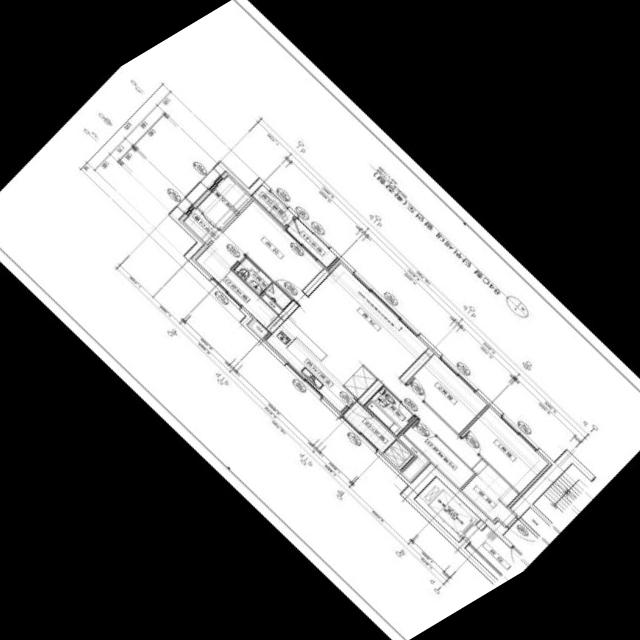background: (0, 0, 640, 640)
space_balconi: (343, 400, 413, 469), (286, 217, 336, 266)
space_bedroom: (222, 200, 323, 299), (460, 406, 547, 492), (405, 353, 486, 433)
space_dressroom: (197, 175, 250, 229), (183, 207, 221, 243)
space_elevator: (414, 476, 480, 541)
space_elevator_hall: (470, 525, 520, 573)
space_front: (462, 458, 518, 525)
space_kitchen: (266, 304, 362, 411)
space_living_room: (300, 262, 481, 468)
space_multipurpose_space: (403, 418, 473, 487)
space_other: (195, 232, 277, 327), (398, 434, 428, 479), (343, 365, 376, 398), (261, 293, 281, 313), (250, 320, 267, 337)
space_outdoor_room: (251, 184, 293, 225)
space_staircase: (533, 463, 591, 522)
space_toilet: (234, 257, 290, 308), (364, 386, 413, 435)
